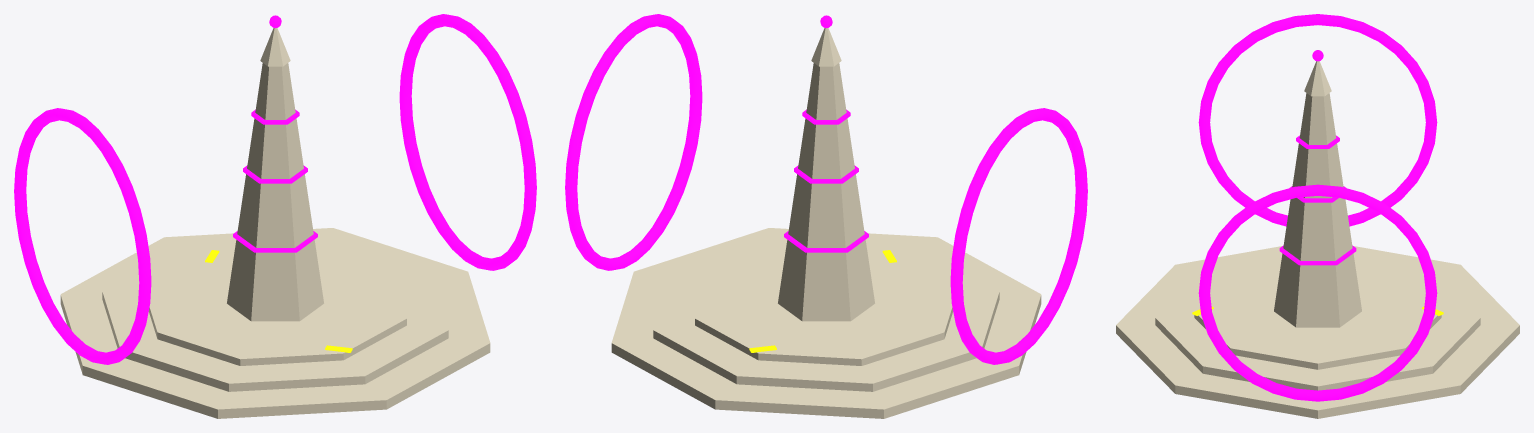
File: solar_singularity_nexus.glb
The picture shows the model from 3 angles, left to right: view 1: azimuth 30°, elevation 25°; view 2: azimuth 150°, elevation 25°; view 3: azimuth 270°, elevation 25°; orthographic projection. The views are drawn at different scales.
Visible parts, largest first — view 1: SolarSingularityNexus; view 2: SolarSingularityNexus; view 3: SolarSingularityNexus.
Part boxes in pixels (box(x1,y1,x2,y2)): SolarSingularityNexus: box(14, 14, 536, 418); SolarSingularityNexus: box(565, 14, 1087, 418); SolarSingularityNexus: box(1116, 14, 1519, 418).
Size of the model in its own units: 6.57 by 4.95 by 6.4.
